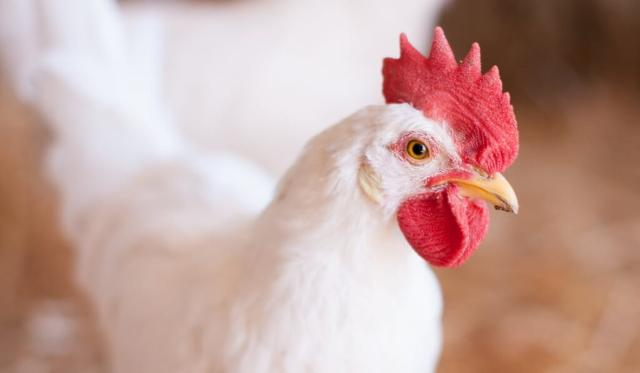Chicken: (32, 25, 521, 373)
